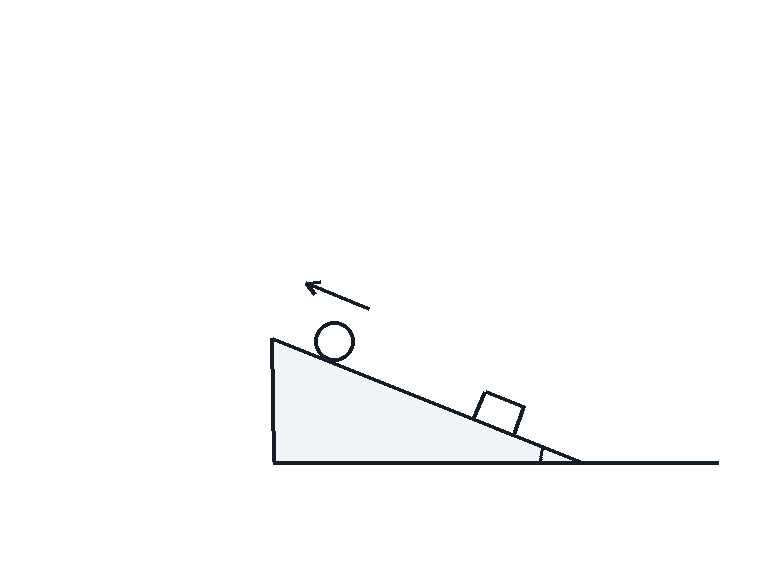ball: (312, 319, 356, 363)
block: (472, 389, 526, 437)
ramp: (270, 336, 582, 464)
